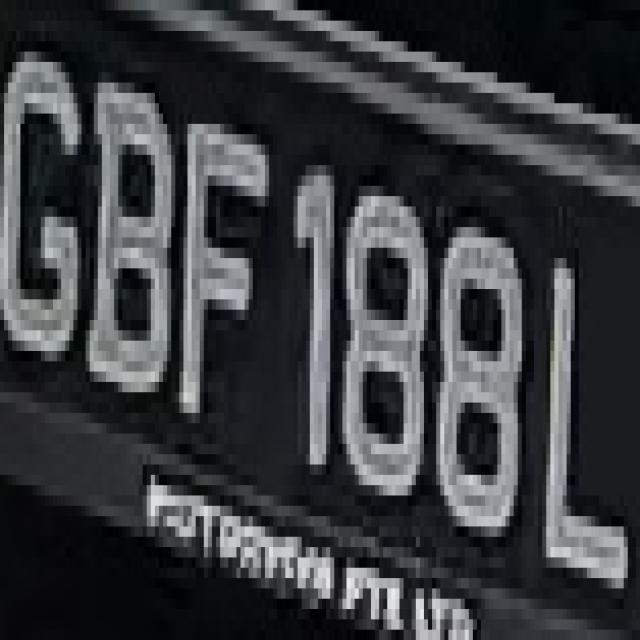1: (286, 93, 342, 506)
8: (338, 165, 436, 516), (436, 196, 522, 558)
B: (98, 62, 175, 433)
F: (175, 72, 269, 454)
G: (0, 0, 89, 392)
L: (542, 227, 632, 609)
